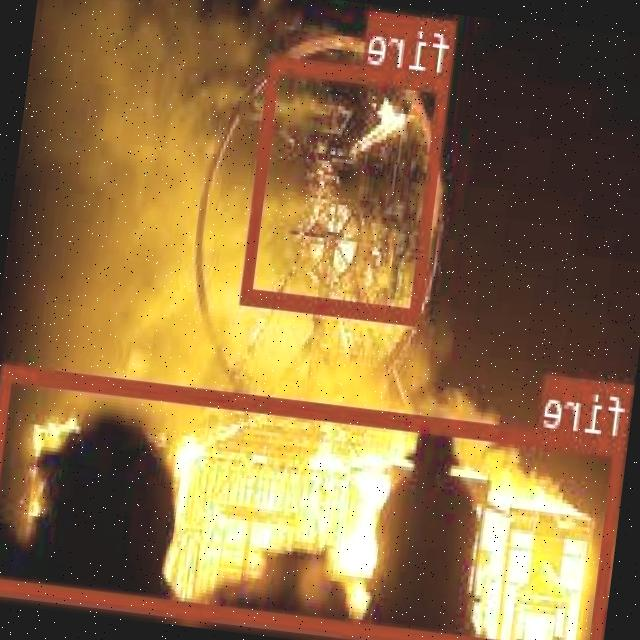fire: (0, 361, 627, 640), (242, 54, 451, 322)
